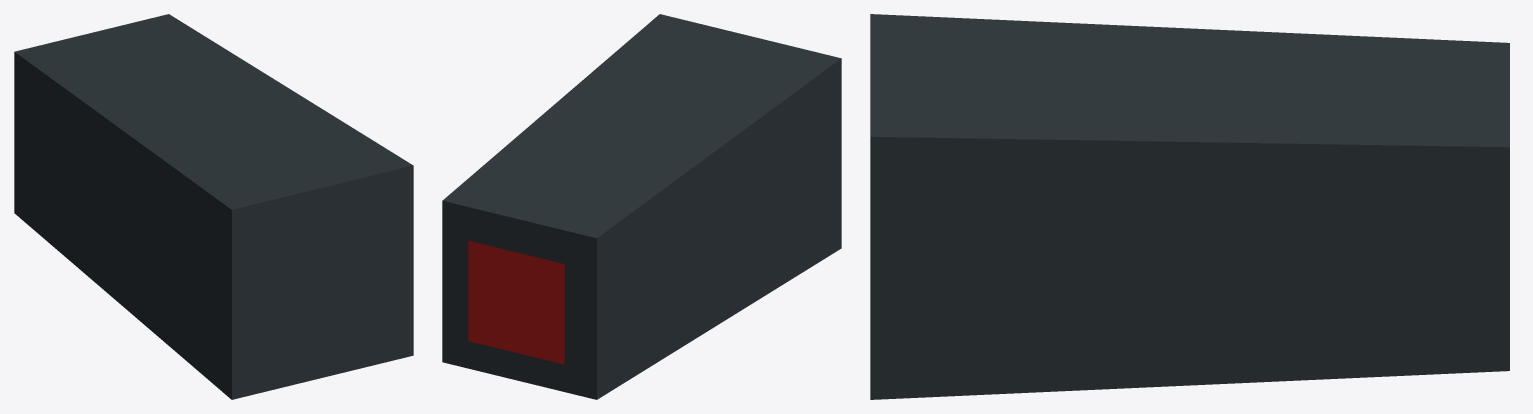
The picture shows the model from 3 angles, left to right: view 1: azimuth 30°, elevation 25°; view 2: azimuth 150°, elevation 25°; view 3: azimuth 270°, elevation 25°; orthographic projection. The views are drawn at different scales.
Visible parts, largest first — view 1: mount; view 2: mount; view 3: mount.
Boxes of the visible parts, bbox=[...] form: mount: bbox=[14, 14, 413, 399]; mount: bbox=[442, 14, 841, 399]; mount: bbox=[870, 14, 1509, 399].
Bounding box in the file's own units: 0.9899 × 0.9899 × 2.21.
